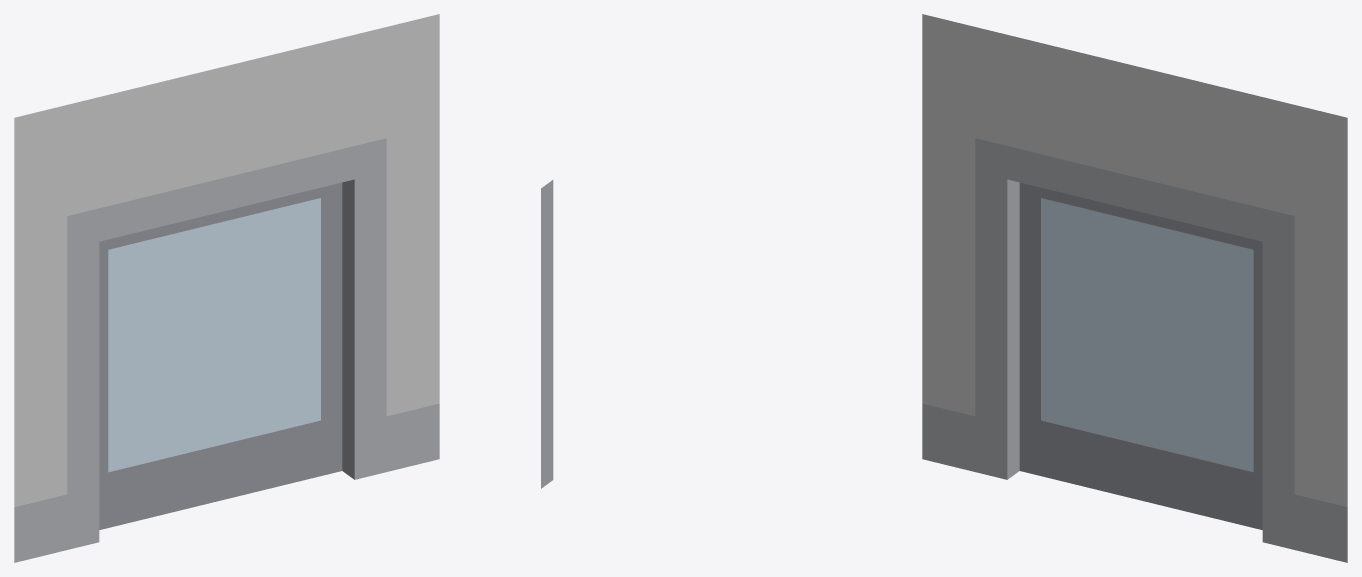
Rendered from wall_windowE.glb.
3 renders of one model, left to right at view 1: azimuth 30°, elevation 25°; view 2: azimuth 150°, elevation 25°; view 3: azimuth 330°, elevation 25°, orthographic.
Visible parts, largest first — view 1: wall_windowE; view 2: wall_windowE; view 3: wall_windowE.
Part boxes in pixels (x1,y1,x2,y2): wall_windowE: (14, 14, 439, 562); wall_windowE: (541, 180, 553, 488); wall_windowE: (922, 14, 1347, 562).
Size of the model in its own units: 0.4 by 0.4 by 0.02.
